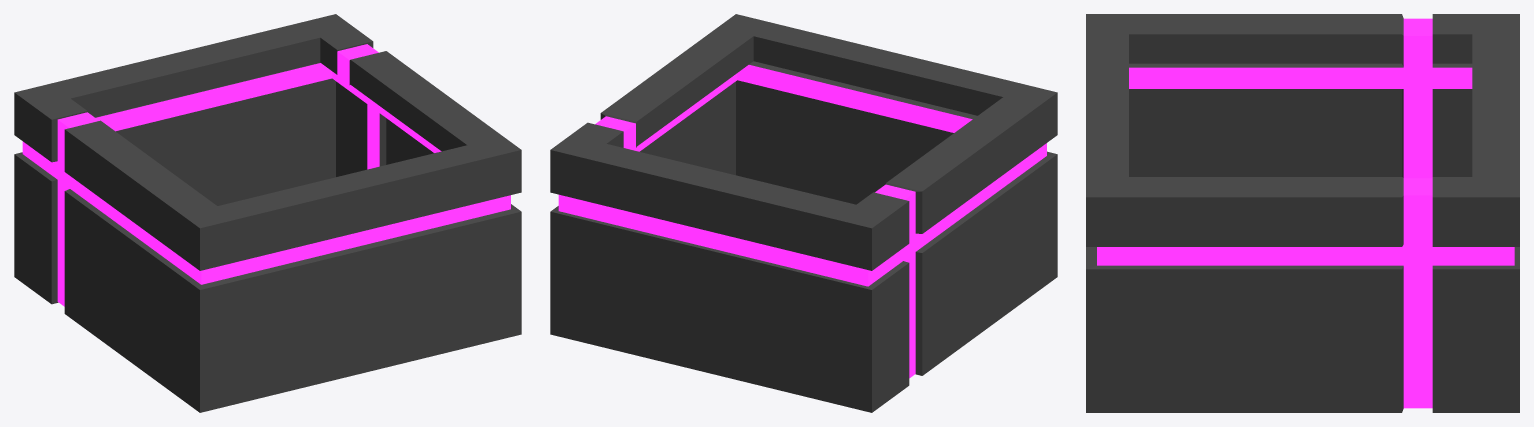
The picture shows the model from 3 angles, left to right: view 1: azimuth 30°, elevation 25°; view 2: azimuth 150°, elevation 25°; view 3: azimuth 270°, elevation 25°; orthographic projection. The views are drawn at different scales.
Visible parts, largest first — view 1: Cube.002; view 2: Cube.002; view 3: Cube.002.
Boxes of the visible parts, x1=… form: Cube.002: x1=14, y1=14, x2=521, y2=412; Cube.002: x1=550, y1=14, x2=1057, y2=412; Cube.002: x1=1086, y1=14, x2=1519, y2=412.
Bounding box in the file's own units: 340 × 186 × 340.
